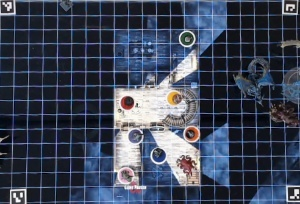blue: (149, 146, 170, 166)
green: (176, 28, 197, 48)
orange: (183, 123, 200, 142)
pink: (116, 165, 135, 185)
red: (117, 94, 135, 112)
violet: (127, 126, 143, 144)
yellow: (165, 90, 186, 108)
